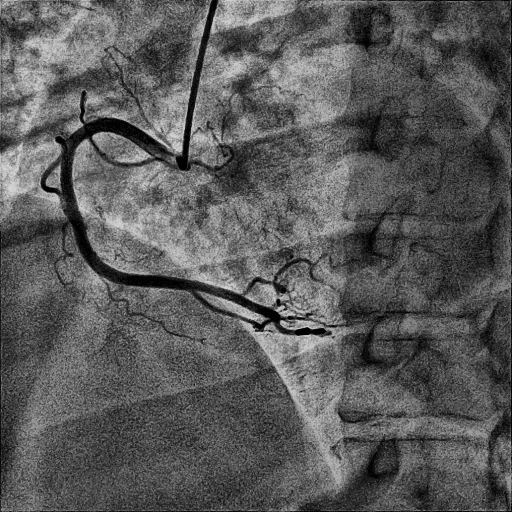pda: (236, 295, 326, 335)
rca: (61, 118, 240, 303)
